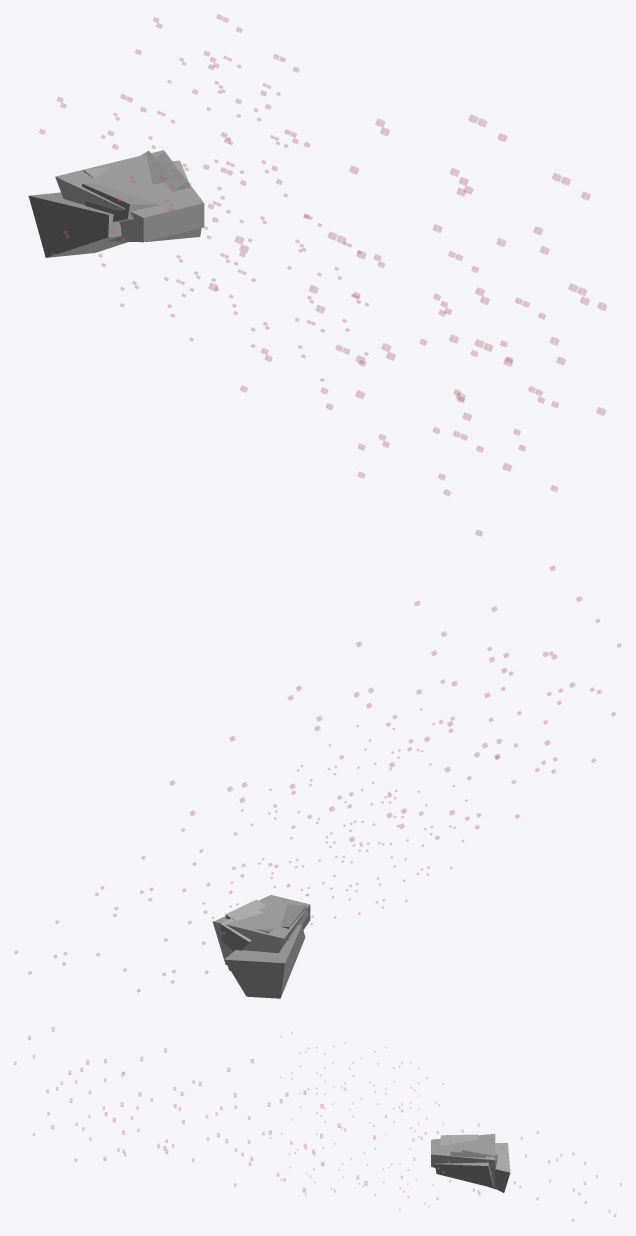
Rendered from Plan01_baking_blockout_002.fbx.
3 renders of one model, top to bottom at view 1: azimuth 30°, elevation 25°; view 2: azimuth 150°, elevation 25°; view 3: azimuth 270°, elevation 25°, orthographic. The views are drawn at different scales.
Visible parts, largest first — view 1: pCube27, pCube1, pCube3, pCube4; view 2: pCube27, pCube3, pCube1, pCube6; view 3: pCube27, pCube1, pCube2, pCube3, pCube4.
Boxes of the visible parts, x1=… form: pCube27: x1=39, y1=14, x2=606, y2=536; pCube1: x1=55, y1=150, x2=204, y2=242; pCube3: x1=28, y1=192, x2=127, y2=257; pCube4: x1=82, y1=183, x2=159, y2=221; pCube27: x1=14, y1=565, x2=621, y2=992; pCube3: x1=224, y1=924, x2=305, y2=998; pCube1: x1=213, y1=895, x2=310, y2=970; pCube6: x1=220, y1=906, x2=262, y2=950; pCube27: x1=14, y1=1027, x2=621, y2=1221; pCube1: x1=431, y1=1134, x2=495, y2=1188; pCube2: x1=435, y1=1138, x2=493, y2=1187; pCube3: x1=495, y1=1143, x2=510, y2=1192; pCube4: x1=440, y1=1134, x2=477, y2=1145.
Size of the model in its own units: 923 by 686 by 2360.
